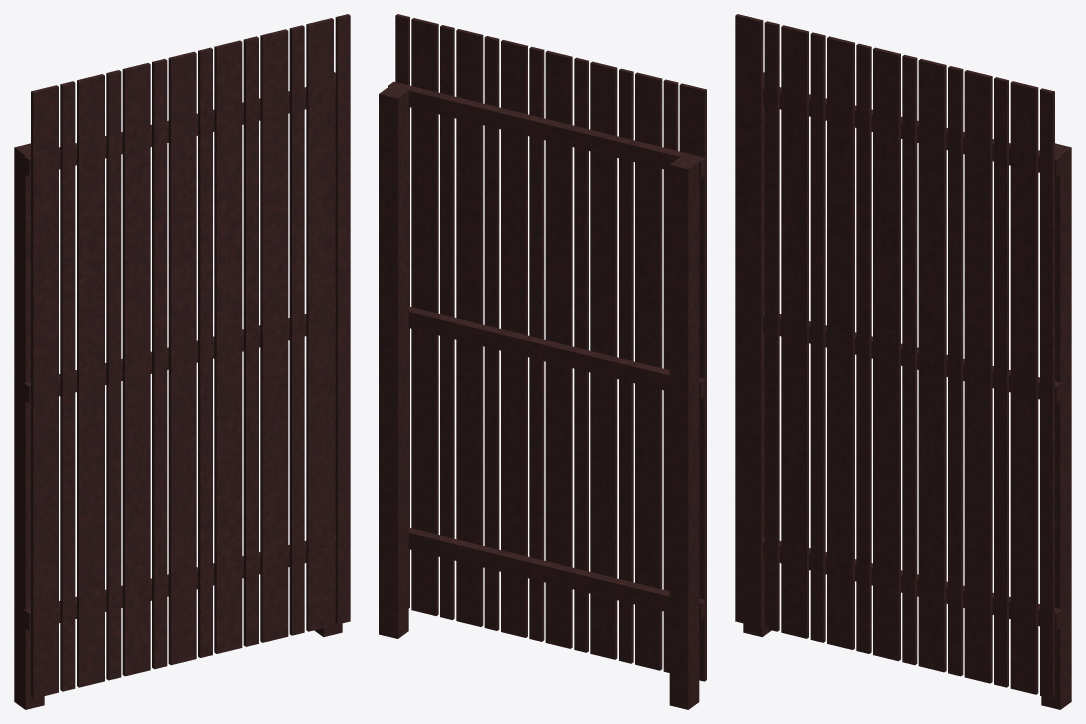
Rendered from tatehari80-40_h1800_rustycopper.fbx.
3 renders of one model, left to right at view 1: azimuth 30°, elevation 25°; view 2: azimuth 150°, elevation 25°; view 3: azimuth 330°, elevation 25°, orthographic. The views are drawn at different scales.
Parts seen in each view (by area): view 1: tatehari80-40_h1800_rustycopper; view 2: tatehari80-40_h1800_rustycopper; view 3: tatehari80-40_h1800_rustycopper.
Part boxes in pixels (box(x1,y1,x2,y2)): tatehari80-40_h1800_rustycopper: box(14, 14, 350, 709); tatehari80-40_h1800_rustycopper: box(379, 14, 706, 709); tatehari80-40_h1800_rustycopper: box(735, 14, 1071, 709).
Bounding box in the file's own units: 100 × 185 × 10.2.
1 material, 1 textured.
